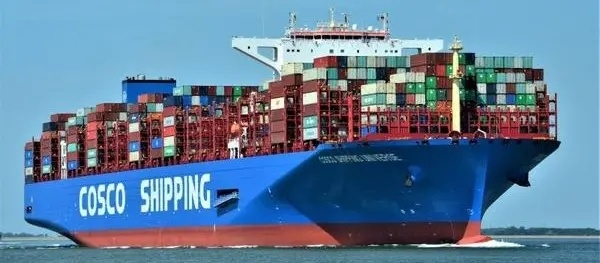Cargoship: (15, 9, 564, 245)
